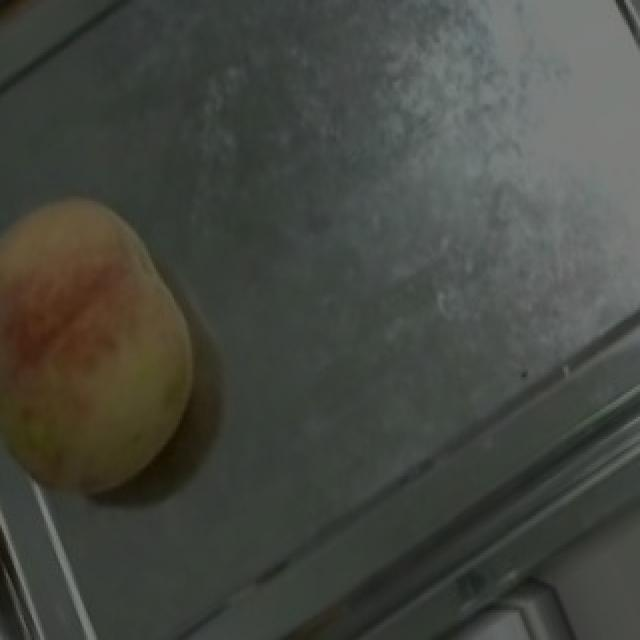Fruit: (0, 154, 242, 533), (404, 555, 632, 640)
